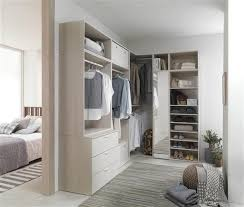Closet: (58, 20, 141, 197)
